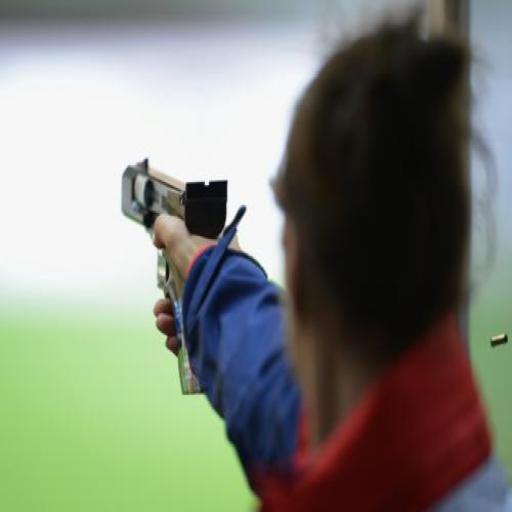shooting: (152, 14, 511, 510)
